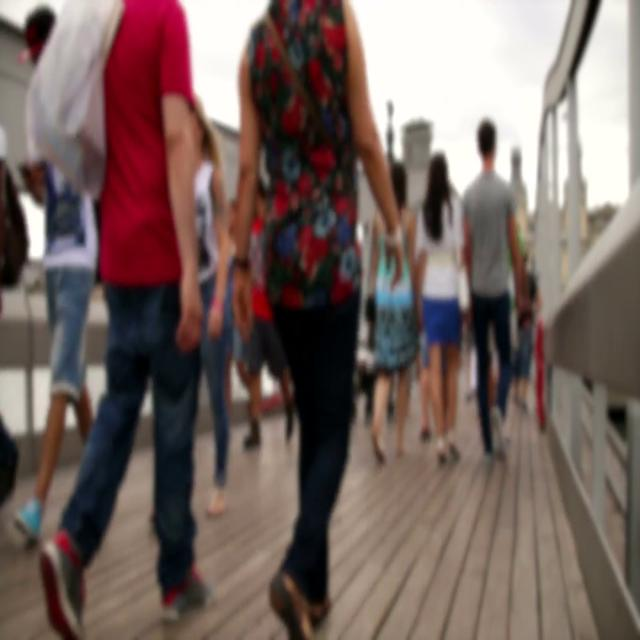body: (31, 0, 212, 639), (228, 0, 400, 639), (11, 4, 101, 546), (459, 109, 532, 470), (363, 157, 424, 466), (189, 92, 230, 521), (240, 172, 297, 451), (416, 143, 465, 466), (414, 164, 454, 446), (512, 250, 540, 413)
